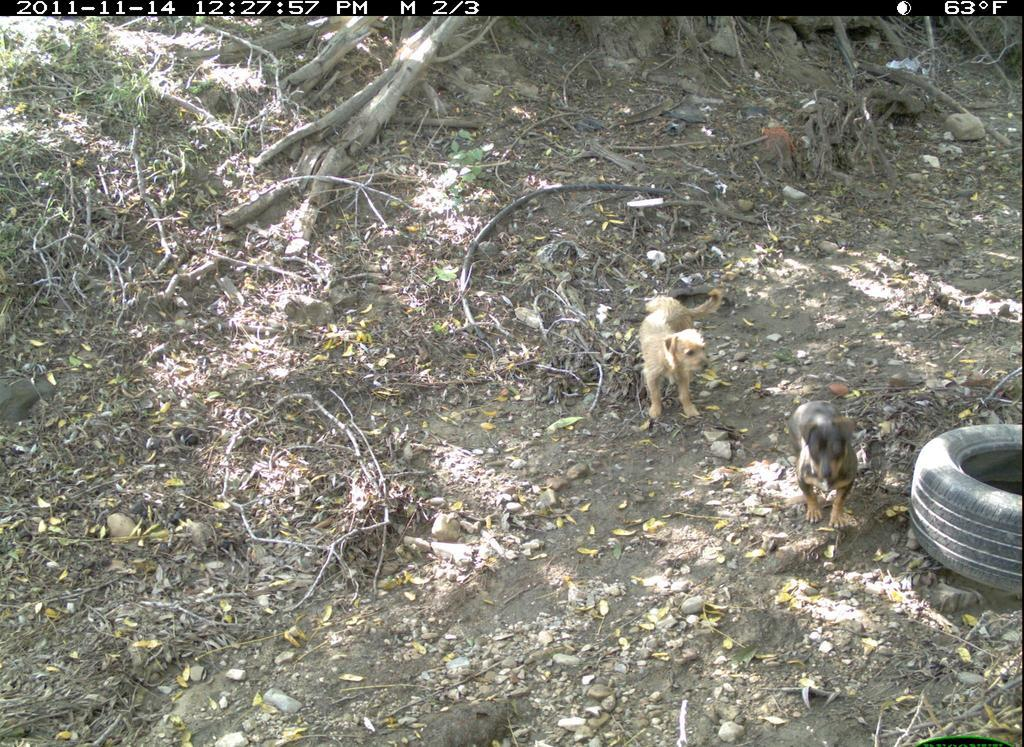dog: (632, 276, 726, 441), (792, 383, 877, 548)
